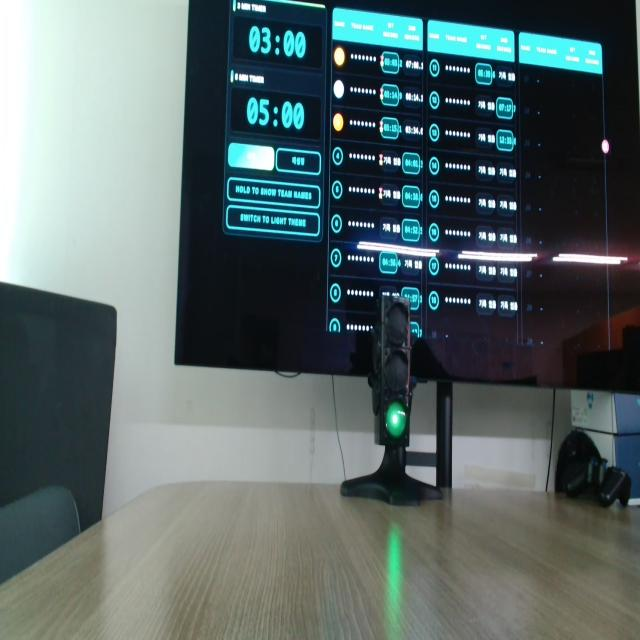green_light: (386, 401, 406, 437)
